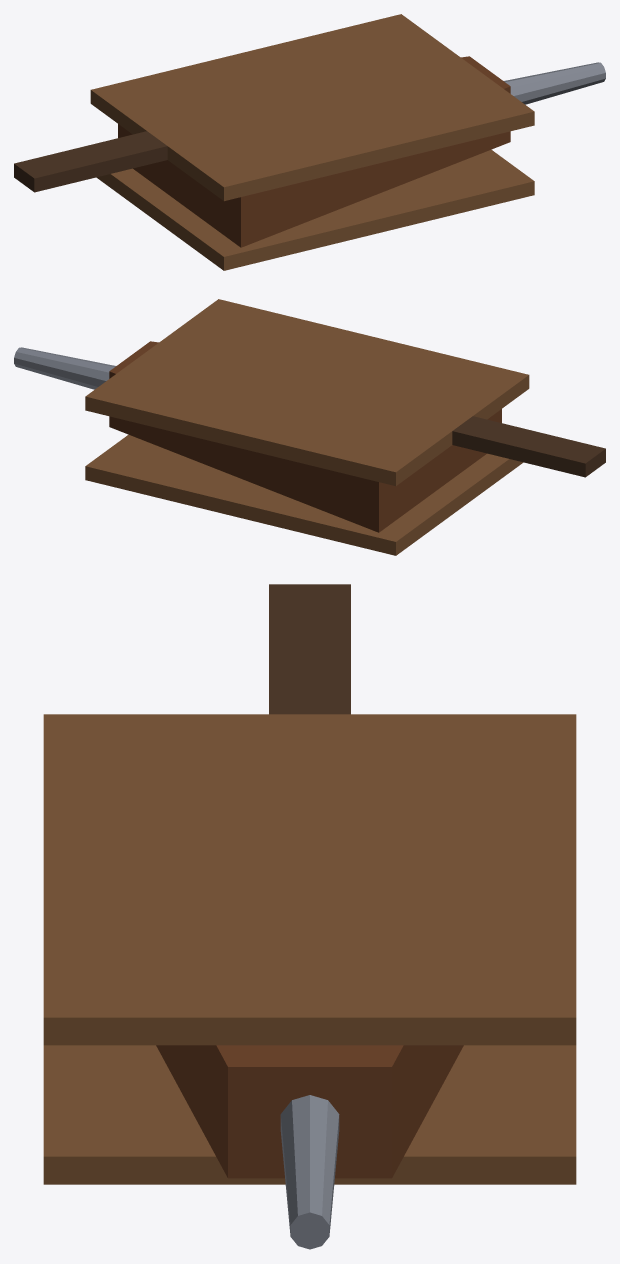
The model's file is bellows.glb.
3 views of the same model, one above another, from view 1: azimuth 30°, elevation 25°; view 2: azimuth 150°, elevation 25°; view 3: azimuth 270°, elevation 25° (orthographic). The views are drawn at different scales.
Visible parts, largest first — view 1: bellows; view 2: bellows; view 3: bellows.
Part boxes in pixels (left/top/right/bottom): bellows: left=14, top=14, right=605, bottom=270; bellows: left=14, top=299, right=605, bottom=555; bellows: left=43, top=584, right=576, bottom=1249.
Size of the model in its own units: 1.3 by 0.18 by 0.52.
